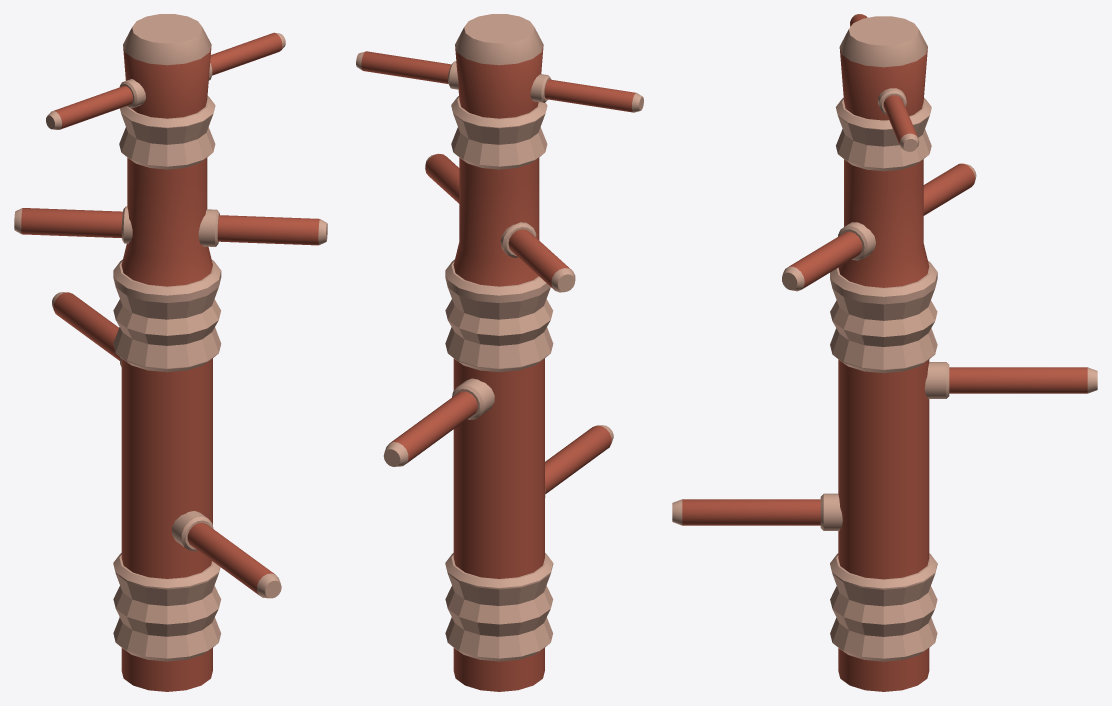
The model's file is Traning_Fight.FBX.
3 renders of one model, left to right at view 1: azimuth 30°, elevation 25°; view 2: azimuth 150°, elevation 25°; view 3: azimuth 270°, elevation 25°, orthographic.
Visible parts, largest first — view 1: Traning_Fight; view 2: Traning_Fight; view 3: Traning_Fight.
Part boxes in pixels (x1,y1,x2,y2): Traning_Fight: [14, 14, 327, 691]; Traning_Fight: [356, 14, 643, 691]; Traning_Fight: [672, 14, 1097, 691].
Bounding box in the file's own units: 8.29 × 19.68 × 11.82.
1 material, 1 textured.
